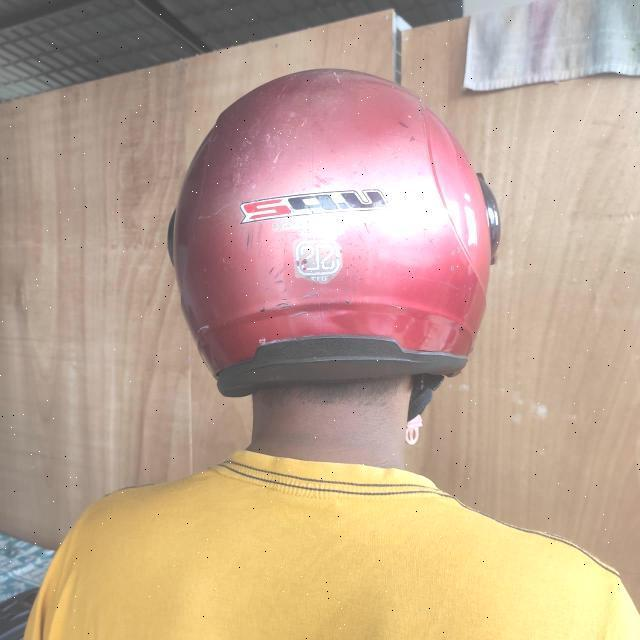helmet: (166, 70, 502, 449)
